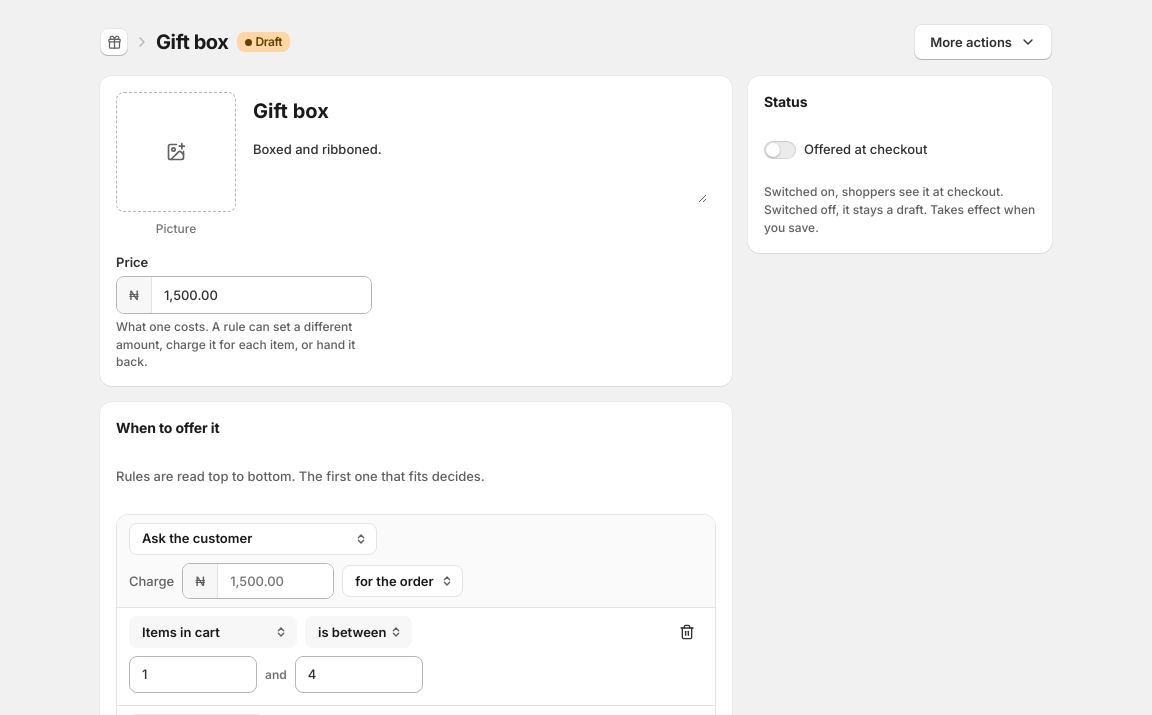
Test: AddOnDetail › archiving lives under More actions, asks first, and moves only the status
// An unsaved edit on screen must not ride along with the archive.
In the field named "name": (476, 112) x1=244 y1=92 x2=708 y2=131, type "!"
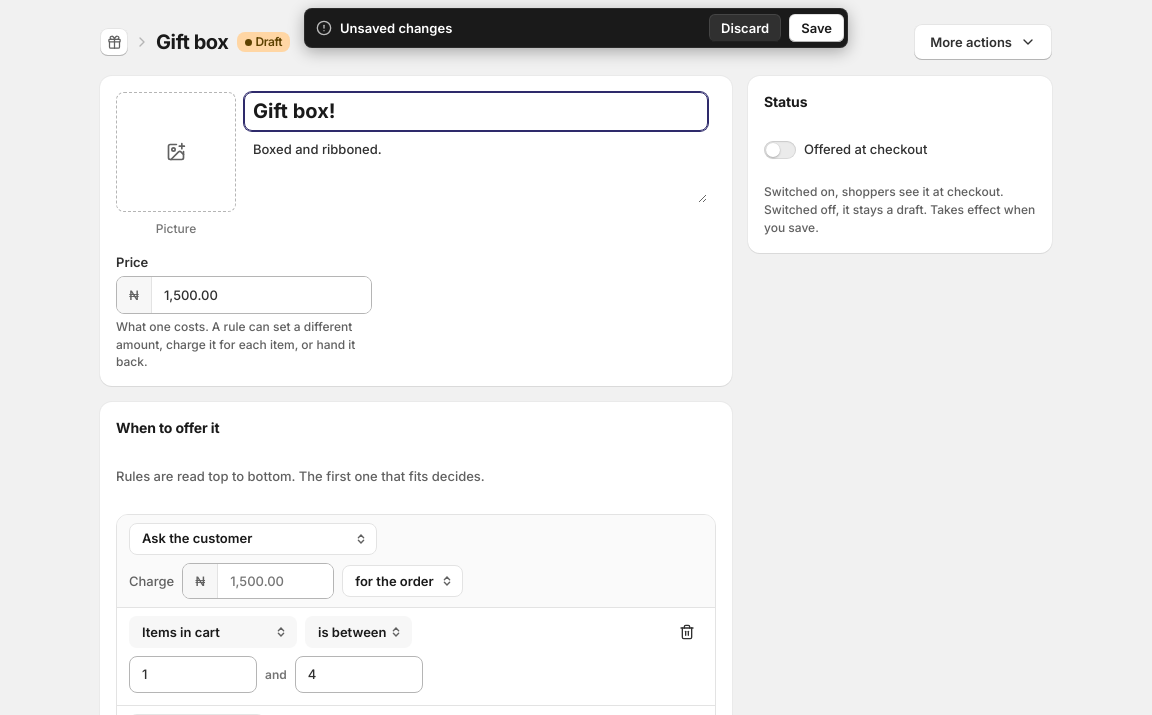
Click the button "More actions": click(983, 42) x1=914 y1=24 x2=1052 y2=60
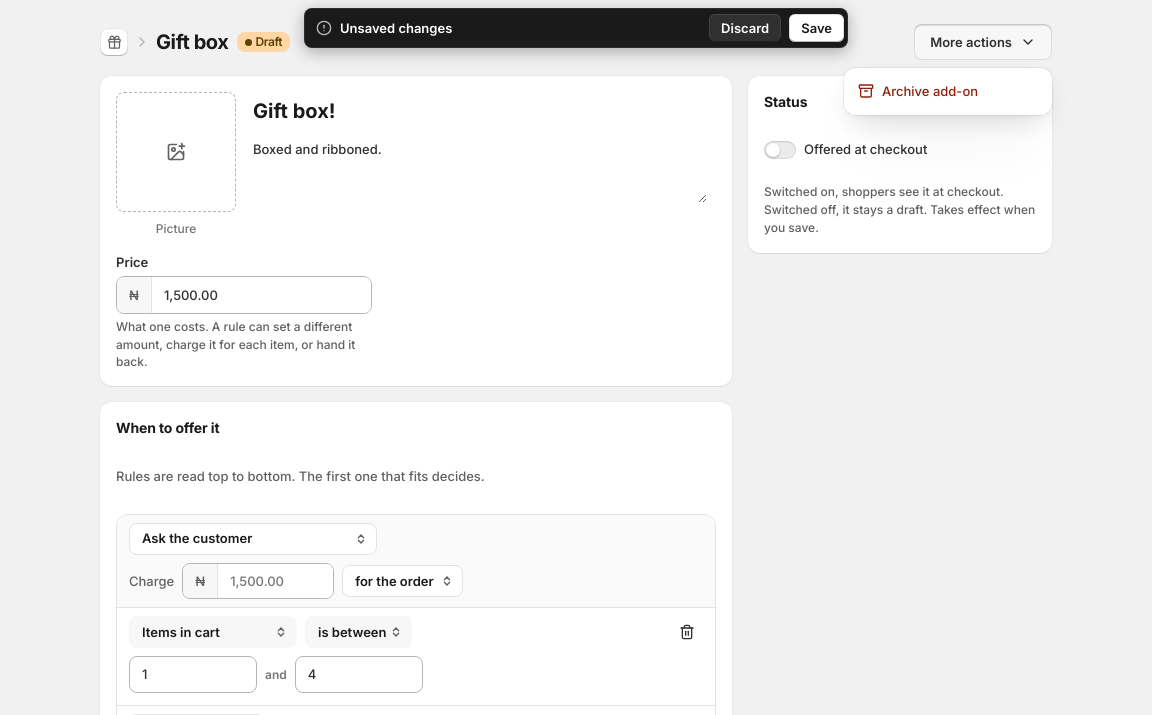
Click the menu item "Archive add-on": click(948, 91) x1=850 y1=74 x2=1046 y2=109
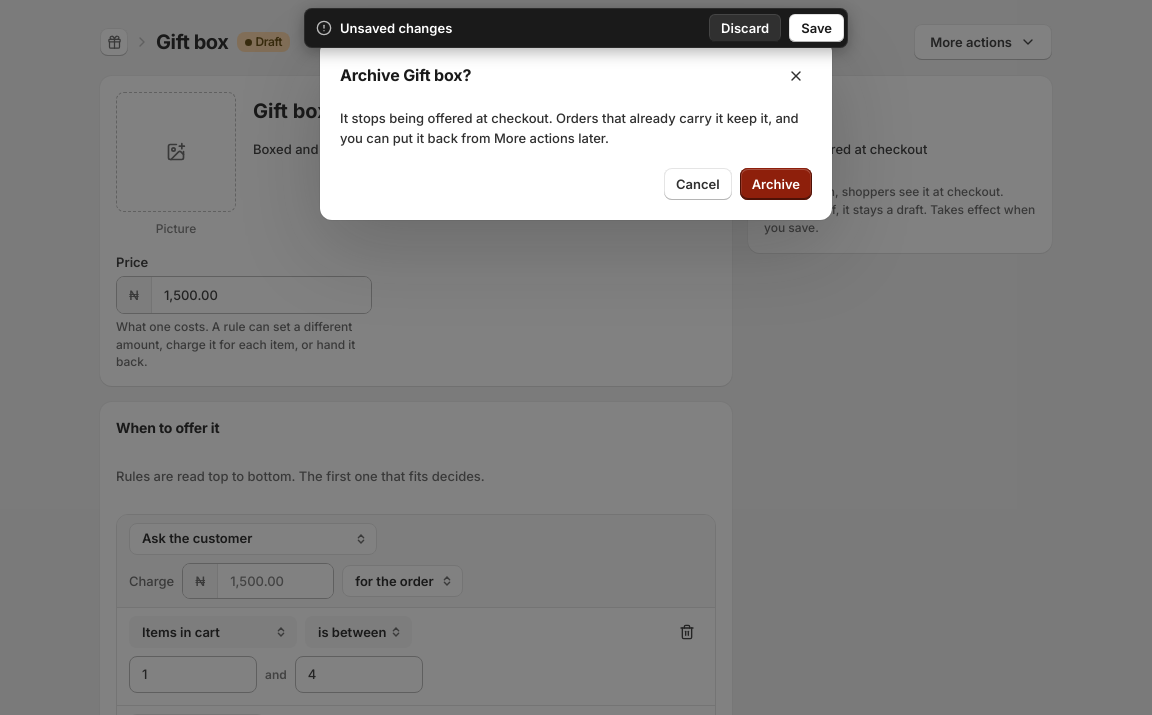
expect the heading "Archive Gift box?" is shown: met, box x1=340 y1=64 x2=471 y2=88
Click the button "Archive": click(776, 184) x1=740 y1=168 x2=812 y2=200
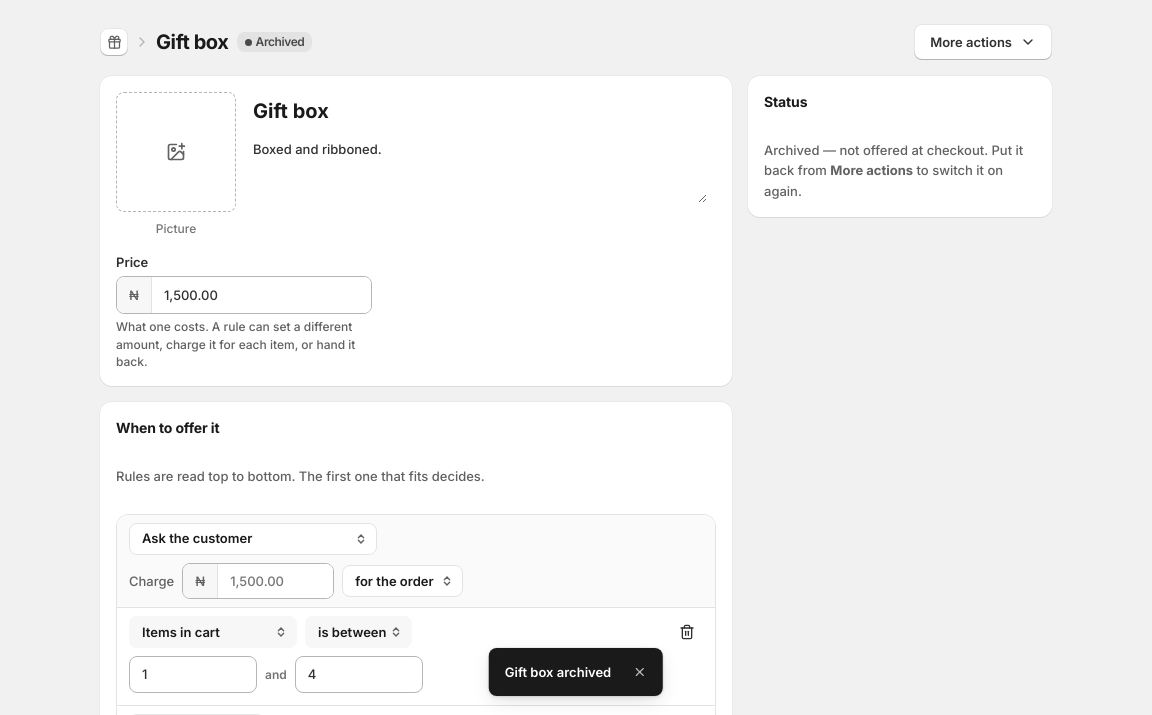
expect the text "Archived" is shown: met, box x1=236 y1=32 x2=312 y2=52
Click the button "More actions": click(983, 42) x1=914 y1=24 x2=1052 y2=60
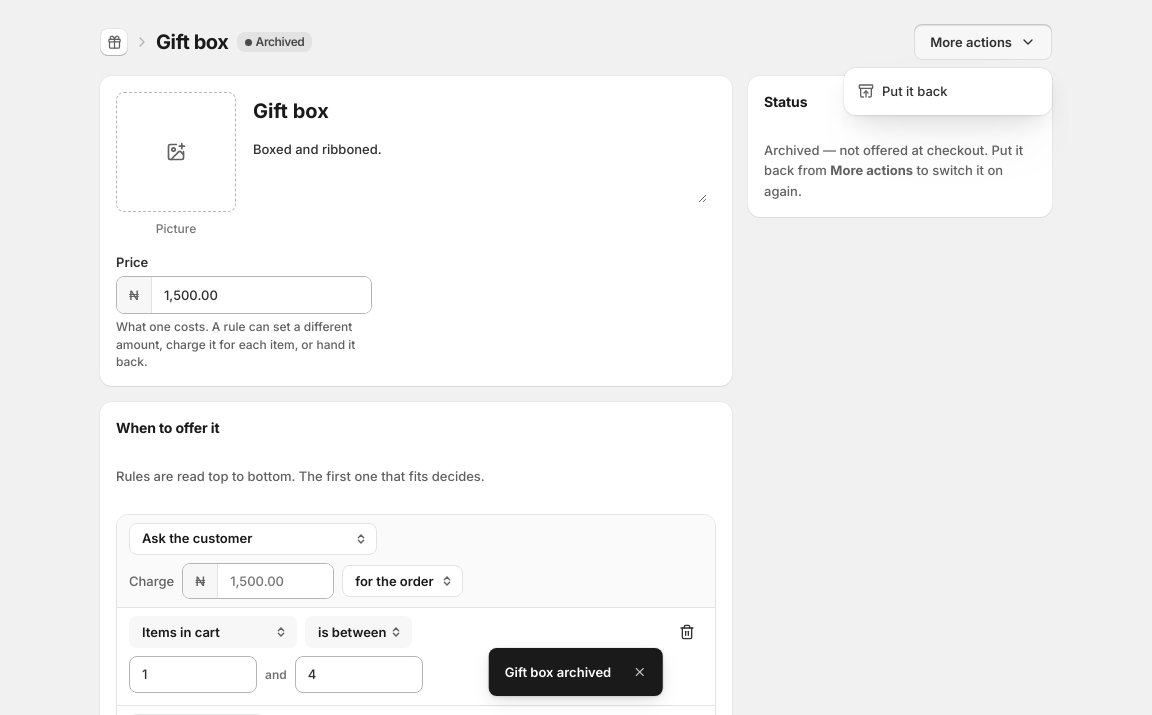
expect the menu item "Put it back" is shown: met, box x1=850 y1=74 x2=1046 y2=109
